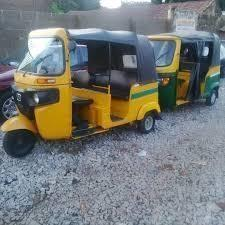keke: (1, 27, 163, 225)
